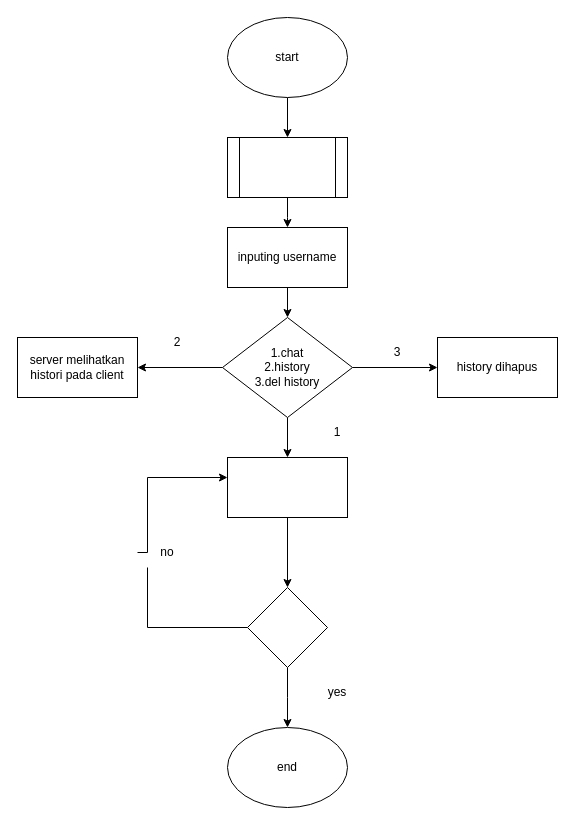
Some shapes in this 575 by 825 pixel diagram are drawn without their labels. Each missing label, with the box of its shape:
:q: (246, 586, 328, 668)
estabilishing tcp connection: (226, 136, 348, 198)
melakukan chat: (226, 456, 348, 518)
